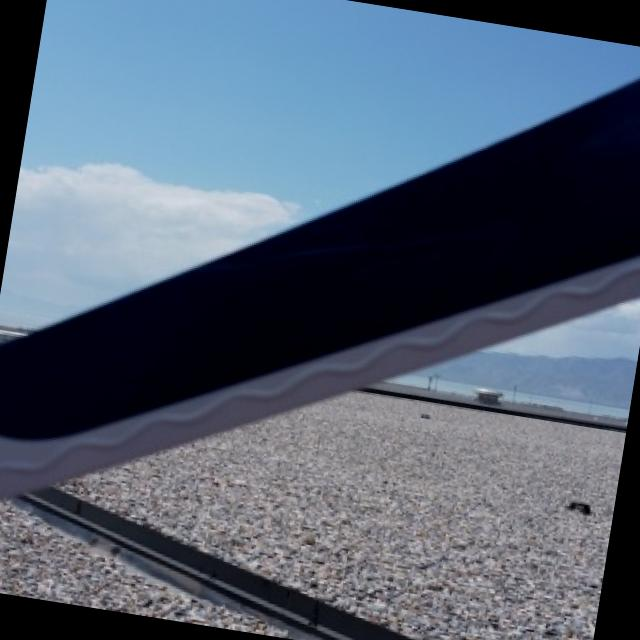healthy: (0, 82, 640, 490)
